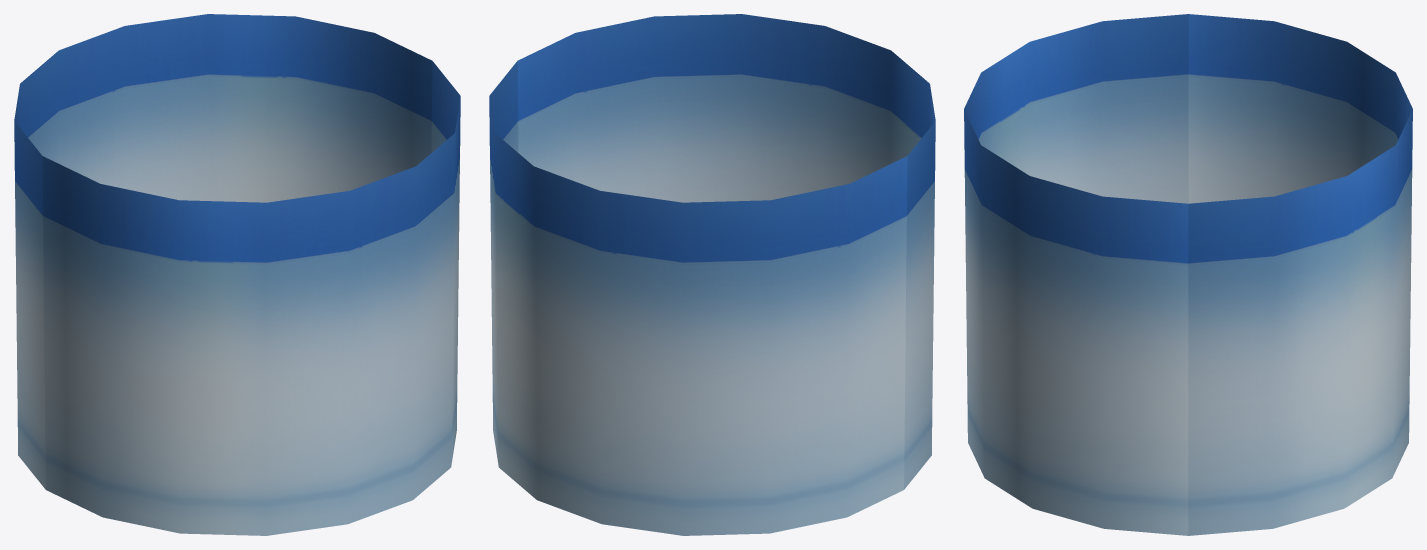
File: Juice_Bottle_Label_02.fbx
3 renders of one model, left to right at view 1: azimuth 30°, elevation 25°; view 2: azimuth 150°, elevation 25°; view 3: azimuth 270°, elevation 25°, orthographic.
Visible parts, largest first — view 1: Juice_Bottle_Label_02; view 2: Juice_Bottle_Label_02; view 3: Juice_Bottle_Label_02.
Boxes of the visible parts, x1,y1,x2,y2 form: Juice_Bottle_Label_02: (14,14,460,535); Juice_Bottle_Label_02: (489,14,935,535); Juice_Bottle_Label_02: (964,14,1412,535).
Bounding box in the file's own units: 36.85 × 30.24 × 36.85.
